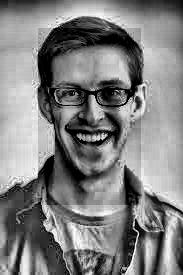happy: (39, 28, 142, 205)
